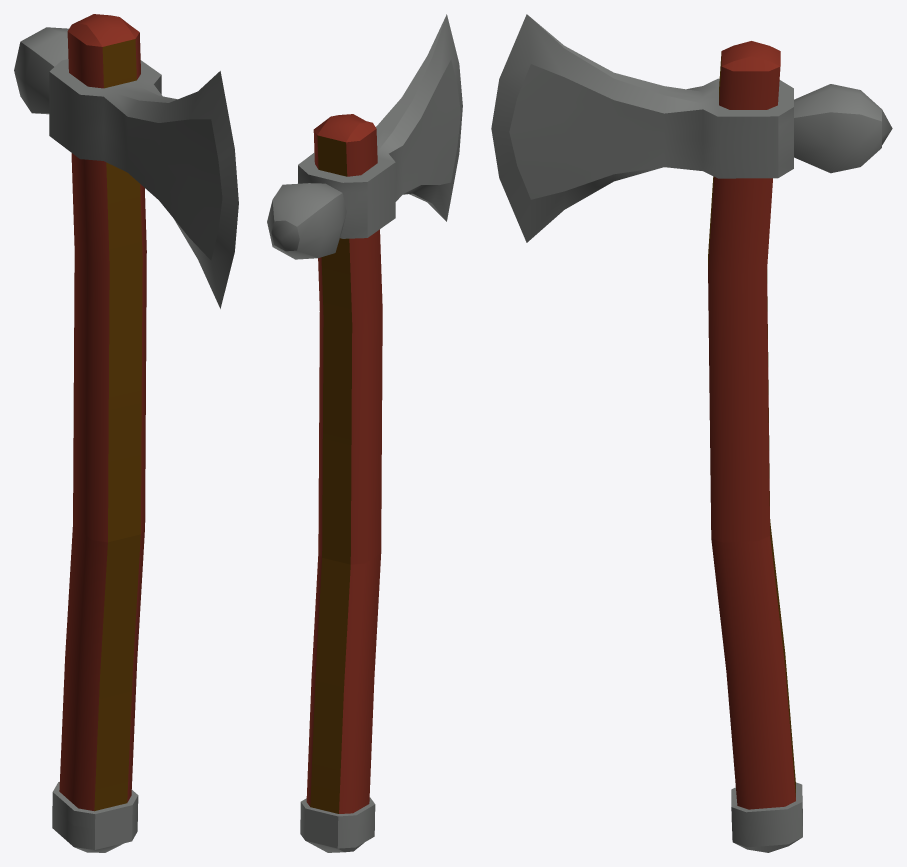
Rendered from Tomahawk_03.fbx.
The picture shows the model from 3 angles, left to right: view 1: azimuth 30°, elevation 25°; view 2: azimuth 150°, elevation 25°; view 3: azimuth 270°, elevation 25°; orthographic projection. The views are drawn at different scales.
Visible parts, largest first — view 1: axe_low; view 2: axe_low; view 3: axe_low.
Boxes of the visible parts, bbox=[...] form: axe_low: bbox=[14, 14, 238, 852]; axe_low: bbox=[267, 14, 462, 852]; axe_low: bbox=[491, 14, 892, 852].
Bounding box in the file's own units: 0.0563 × 0.5701 × 0.2493.
